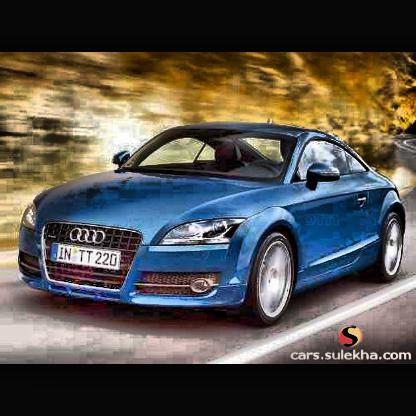Audi TT Hatchback 2011: (18, 124, 409, 330)
